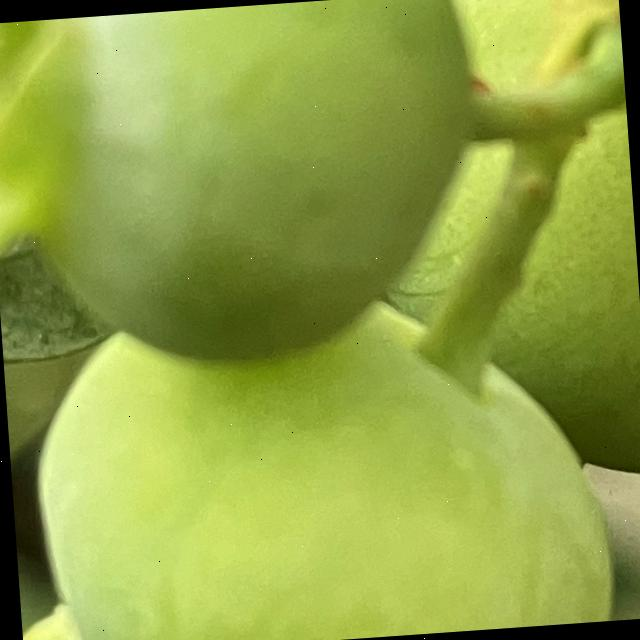Blueberries: (0, 280, 621, 640), (0, 0, 496, 378)
